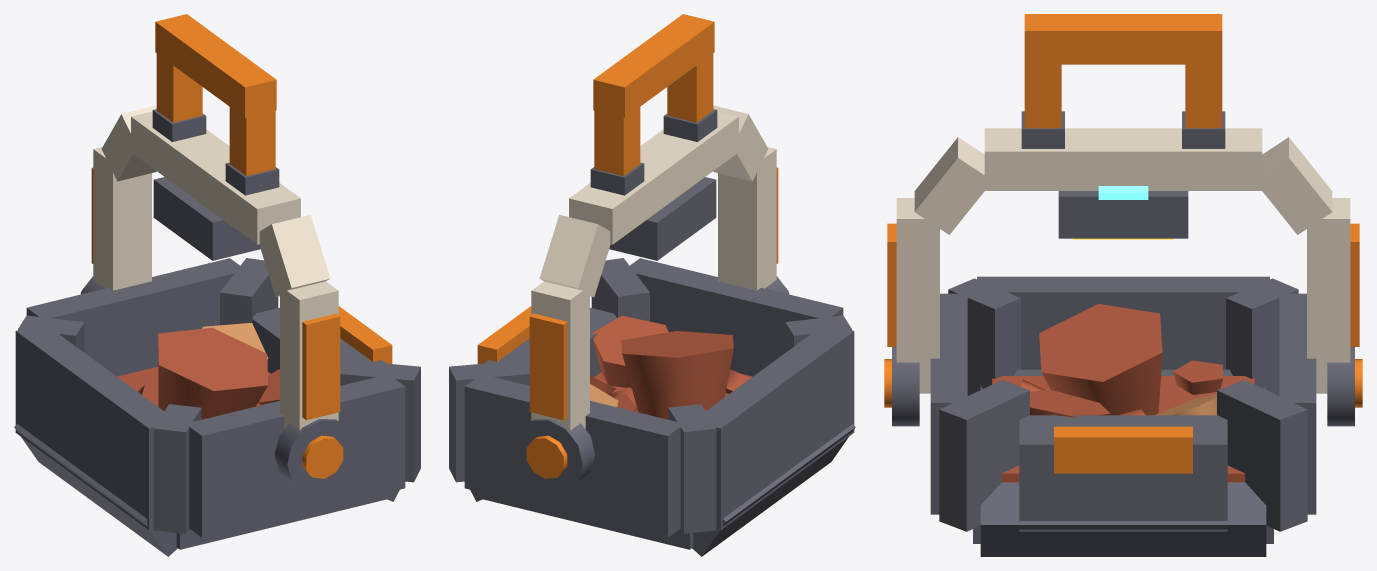
File: asset.glb
3 views of the same model, side by side, from view 1: azimuth 30°, elevation 25°; view 2: azimuth 150°, elevation 25°; view 3: azimuth 270°, elevation 25° (orthographic). The views are drawn at different scales.
Parts seen in each view (by area): view 1: Mesh_WallLeft, Mesh_WallBack, Mesh_WallRight, Mesh_ArchBridge, Mesh_RockClod_Large, Mesh_ArchLeg_R, Mesh_HandleGrip, Mesh_BackCornerL, Mesh_ArchLeg_L, Mesh_LampCasing, Mesh_ArchShoulder_L, Mesh_LegAccent_L (+16 smaller); view 2: Mesh_WallRight, Mesh_WallBack, Mesh_WallLeft, Mesh_ArchBridge, Mesh_RockClod_Large, Mesh_ArchLeg_L, Mesh_HandleGrip, Mesh_BackCornerR, Mesh_ArchLeg_R, Mesh_LampCasing, Mesh_ArchShoulder_R, Mesh_LegAccent_R (+15 smaller); view 3: Mesh_WallFrontNose, Mesh_ArchBridge, Mesh_WallBack, Mesh_KeelFront, Mesh_RockClod_Large, Mesh_HandleGrip, Mesh_FrontCornerL, Mesh_FrontCornerR, Mesh_ArchLeg_L, Mesh_ArchLeg_R, Mesh_FrontOrangeClip, Mesh_LampCasing (+19 smaller).
Part boxes in pixels (bbox=[...]): Mesh_WallLeft: bbox=[185, 377, 405, 537]; Mesh_WallBack: bbox=[15, 324, 176, 530]; Mesh_WallRight: bbox=[26, 258, 246, 376]; Mesh_ArchBridge: bbox=[131, 111, 300, 244]; Mesh_RockClod_Large: bbox=[158, 327, 267, 419]; Mesh_ArchLeg_R: bbox=[93, 147, 151, 290]; Mesh_HandleGrip: bbox=[155, 14, 276, 117]; Mesh_BackCornerL: bbox=[153, 404, 201, 533]; Mesh_ArchLeg_L: bbox=[280, 281, 338, 430]; Mesh_LampCasing: bbox=[153, 177, 260, 260]; Mesh_ArchShoulder_L: bbox=[259, 215, 330, 297]; Mesh_LegAccent_L: bbox=[302, 313, 340, 420]; Mesh_WallRight: bbox=[464, 377, 684, 537]; Mesh_WallBack: bbox=[692, 324, 854, 530]; Mesh_WallLeft: bbox=[623, 258, 843, 376]; Mesh_ArchBridge: bbox=[569, 111, 738, 244]; Mesh_RockClod_Large: bbox=[621, 331, 733, 419]; Mesh_ArchLeg_L: bbox=[718, 147, 776, 290]; Mesh_HandleGrip: bbox=[593, 14, 714, 117]; Mesh_BackCornerR: bbox=[668, 404, 716, 533]; Mesh_ArchLeg_R: bbox=[531, 281, 589, 430]; Mesh_LampCasing: bbox=[609, 177, 716, 260]; Mesh_ArchShoulder_R: bbox=[539, 215, 610, 297]; Mesh_LegAccent_R: bbox=[529, 313, 567, 420]; Mesh_WallFrontNose: bbox=[1019, 415, 1227, 531]; Mesh_ArchBridge: bbox=[984, 128, 1262, 190]; Mesh_WallBack: bbox=[977, 276, 1269, 369]; Mesh_KeelFront: bbox=[980, 466, 1266, 556]; Mesh_RockClod_Large: bbox=[1039, 304, 1162, 415]; Mesh_HandleGrip: bbox=[1024, 14, 1222, 64]; Mesh_FrontCornerL: bbox=[939, 380, 1029, 531]; Mesh_FrontCornerR: bbox=[1217, 380, 1307, 531]; Mesh_ArchLeg_L: bbox=[896, 198, 939, 393]; Mesh_ArchLeg_R: bbox=[1307, 198, 1350, 393]; Mesh_FrontOrangeClip: bbox=[1054, 426, 1192, 473]; Mesh_LampCasing: bbox=[1058, 191, 1188, 238].
Size of the model in its own units: 0.2318 by 0.339 by 0.31.
